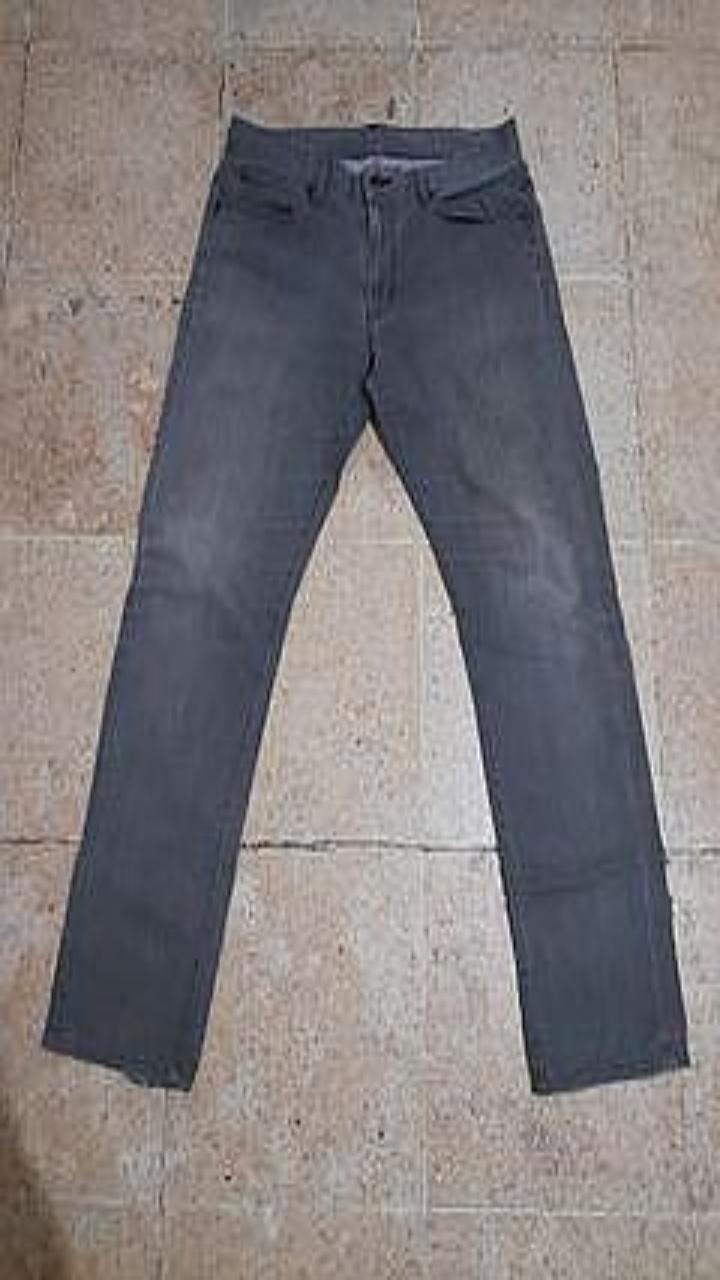Jeans: (42, 115, 689, 1092)
